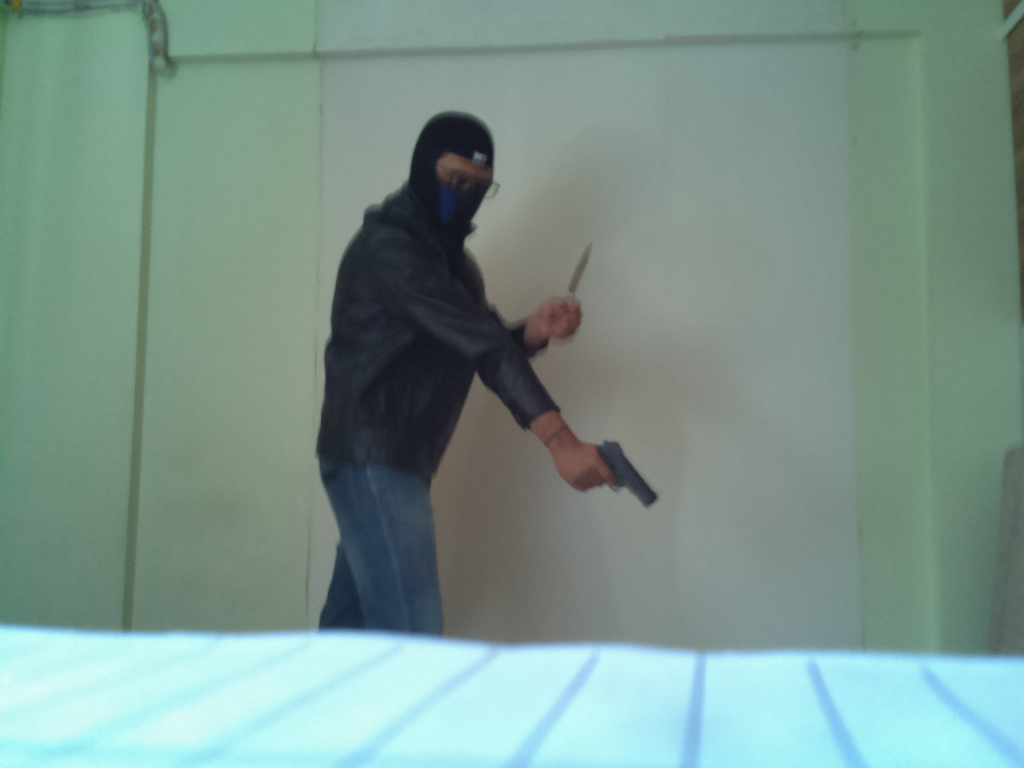gun: (579, 431, 659, 511)
